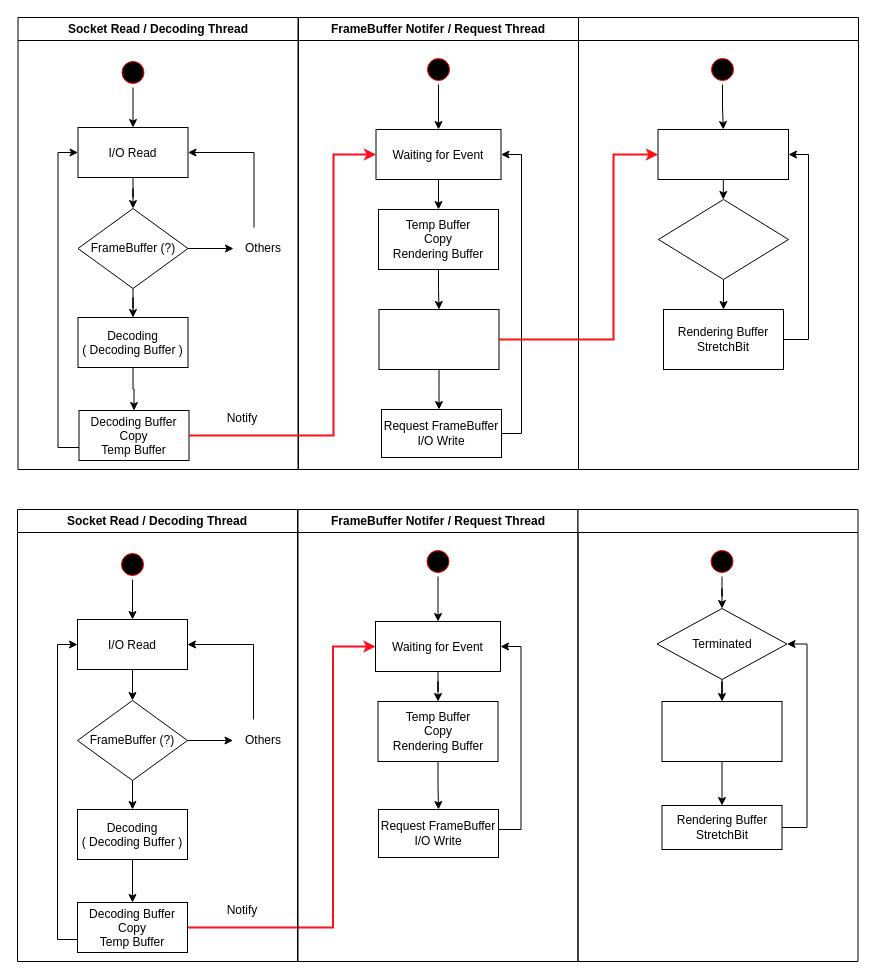
The diagram is 876 pixels wide and 979 high, and some of its shapes have lost their labels. The box of each missing label's shape, as (x1, y1, x2, y2) in pixels:
Checking HWND Aspect Ratio: (661, 700, 782, 762)
GetMessage: (657, 128, 788, 180)
Main UI Thread: (578, 16, 858, 470)
Rendering Thread: (577, 508, 858, 962)
SendMessage: (378, 308, 499, 370)
WM_PAINT(?): (658, 198, 788, 280)
